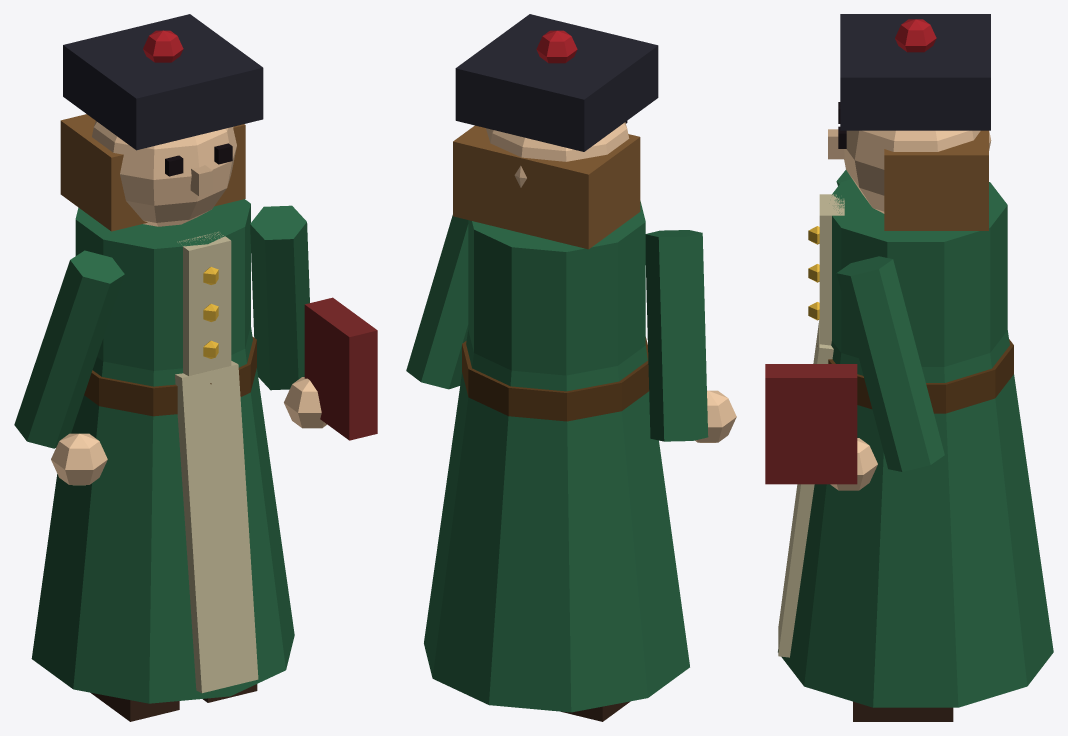
File: postac_szymonowic.glb
3 renders of one model, left to right at view 1: azimuth 30°, elevation 25°; view 2: azimuth 150°, elevation 25°; view 3: azimuth 270°, elevation 25°, orthographic. The views are drawn at different scales.
Visible parts, largest first — view 1: postac_szymonowic; view 2: postac_szymonowic; view 3: postac_szymonowic.
Part boxes in pixels (<box>): postac_szymonowic: <box>14,14,377,721</box>; postac_szymonowic: <box>406,14,736,721</box>; postac_szymonowic: <box>765,14,1053,721</box>.
Bounding box in the file's own units: 0.8091 × 1.77 × 0.69.
